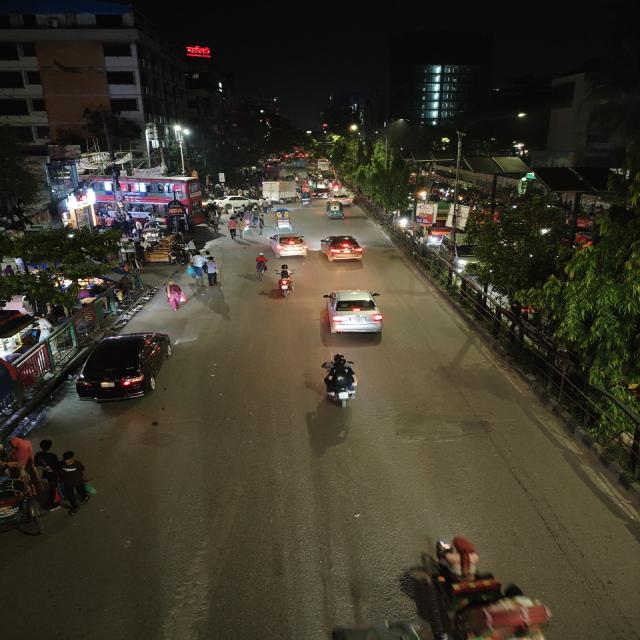bicycle: (251, 252, 270, 280)
bus: (187, 179, 206, 228)
car: (73, 328, 177, 405), (318, 287, 391, 343), (318, 232, 366, 264), (434, 238, 482, 270), (266, 230, 311, 260), (216, 196, 256, 208), (332, 193, 356, 206), (313, 188, 332, 198)
cng: (323, 201, 347, 220)
motorcycle: (315, 352, 366, 410), (271, 262, 296, 296)
pedestrian: (48, 443, 97, 516), (162, 283, 190, 317), (201, 254, 223, 287), (186, 250, 206, 284), (226, 216, 242, 240), (253, 214, 266, 234)
rickshaw: (0, 432, 46, 536), (271, 207, 295, 231), (298, 195, 313, 209)
truck: (261, 174, 303, 202)
